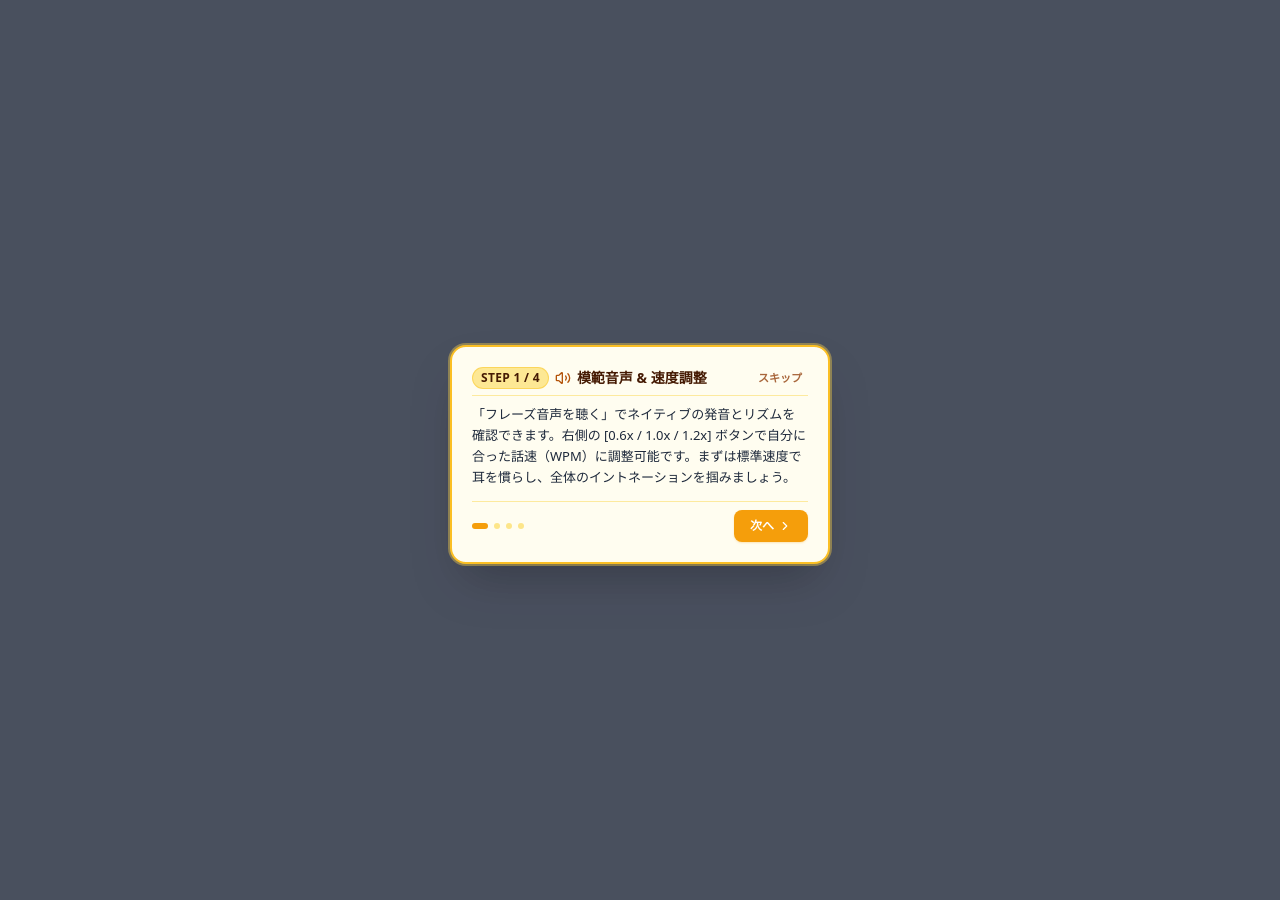
Test: OnboardingTourModal and TOUR_STEPS (Admin Tour Test) › allows navigating forward and backward between tour steps
Expected: the text "STEP 1 / 4" is shown, x1=472 y1=367 x2=549 y2=389
Click the button "次へ": (771, 526) x1=734 y1=510 x2=808 y2=542
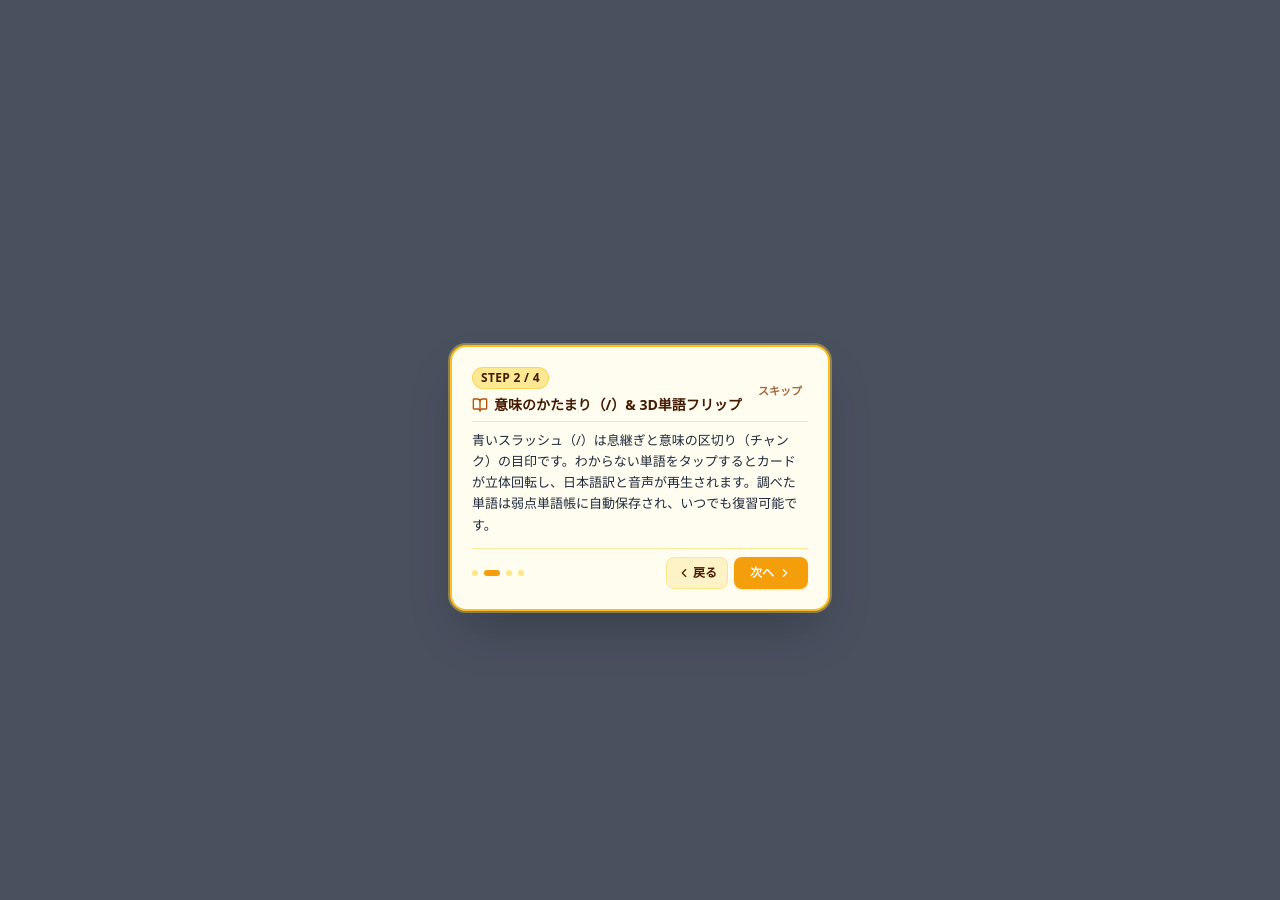
Result: the text "STEP 2 / 4" is shown at x1=472 y1=367 x2=549 y2=389
Result: the heading "意味のかたまり（/）& 3D単語フリップ" is shown at x1=494 y1=395 x2=742 y2=415
Click the button "戻る": (697, 573) x1=666 y1=557 x2=728 y2=589
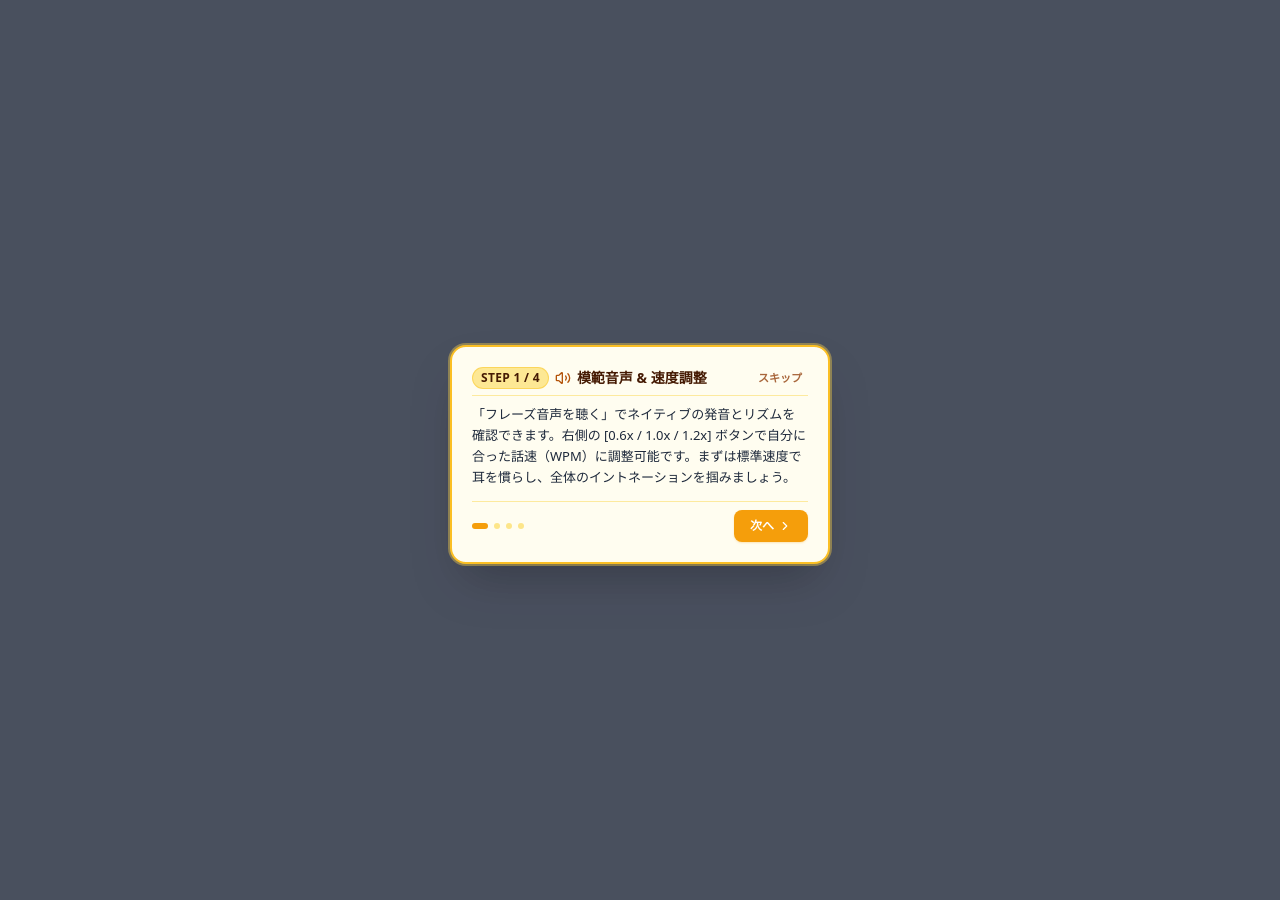
Result: the text "STEP 1 / 4" is shown at x1=472 y1=367 x2=549 y2=389
